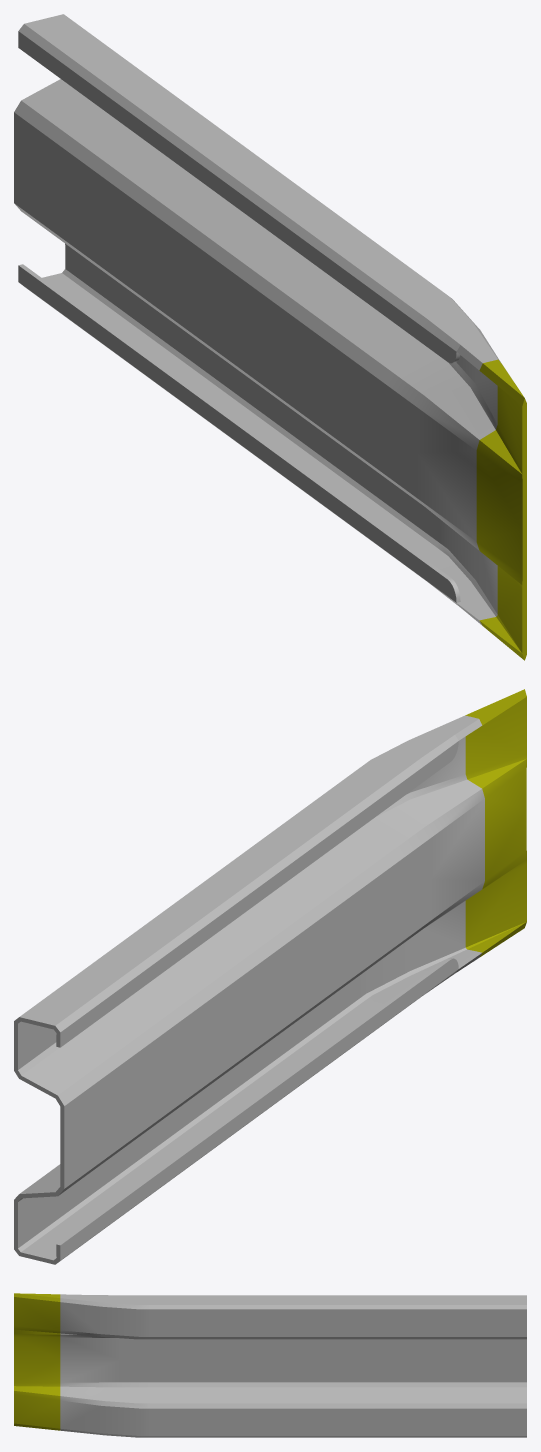
Rendered from Road_Barrier_005.fbx.
The picture shows the model from 3 angles, top to bottom: view 1: azimuth 30°, elevation 25°; view 2: azimuth 150°, elevation 25°; view 3: azimuth 270°, elevation 25°; orthographic projection. The views are drawn at different scales.
Parts seen in each view (by area): view 1: Road Barrier.005; view 2: Road Barrier.005; view 3: Road Barrier.005.
Part boxes in pixels (x1,y1,x2,y2): Road Barrier.005: [14, 14, 526, 660]; Road Barrier.005: [14, 689, 526, 1264]; Road Barrier.005: [14, 1293, 526, 1437].
Bounding box in the file's own units: 1204 × 5435 × 19059.
